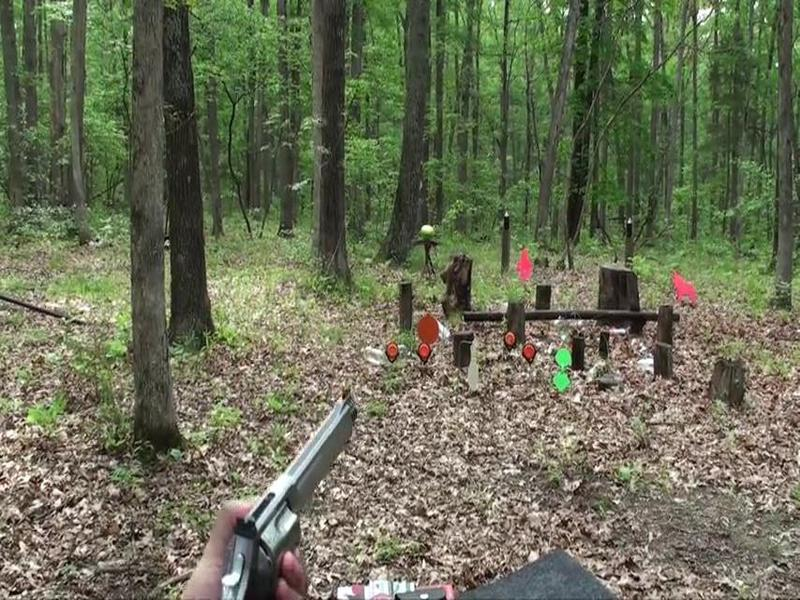Revolver: (208, 376, 390, 600)
